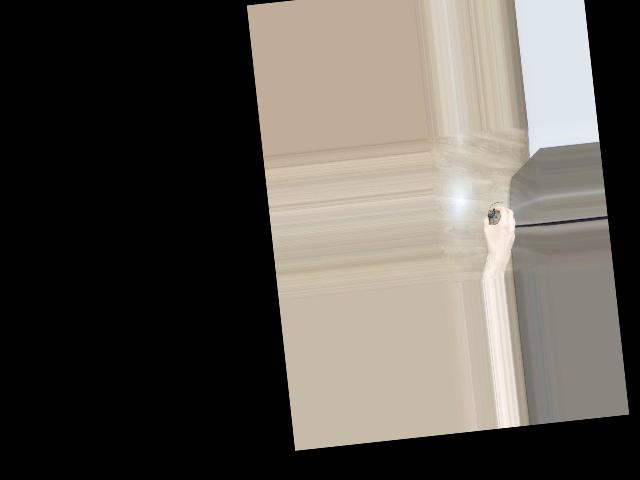beet: (486, 200, 505, 225)
